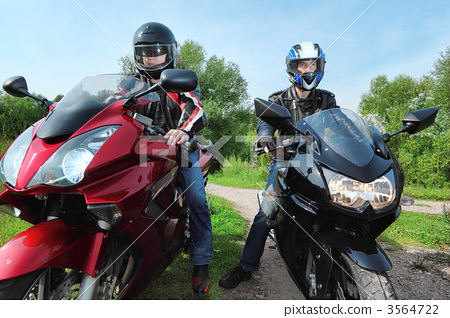helmet: (127, 21, 183, 69), (280, 40, 329, 94)
